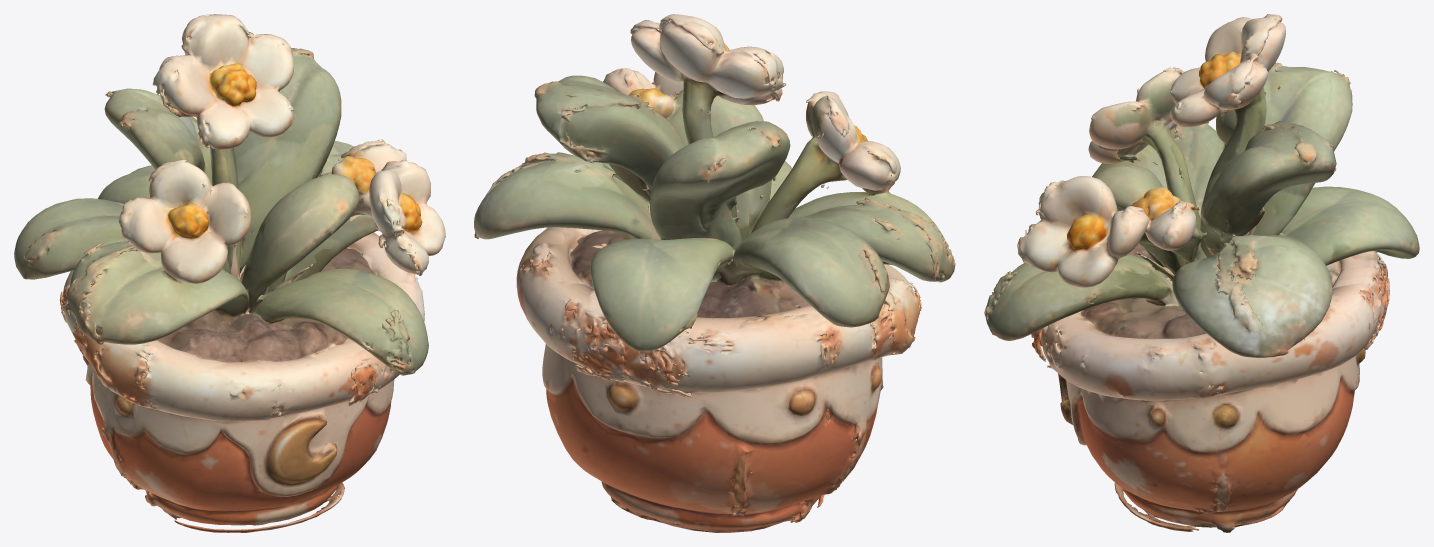
3 renders of one model, left to right at view 1: azimuth 30°, elevation 25°; view 2: azimuth 150°, elevation 25°; view 3: azimuth 270°, elevation 25°, orthographic. The views are drawn at different scales.
Parts seen in each view (by area): view 1: E1_花盆; view 2: E1_花盆; view 3: E1_花盆.
Part boxes in pixels (box(x1,y1,x2,y2)): E1_花盆: box(14, 14, 445, 532); E1_花盆: box(474, 14, 955, 532); E1_花盆: box(984, 14, 1419, 532).
Size of the model in its own units: 0.4331 by 0.5 by 0.4207.
Materials: 1 (1 with a texture image).
